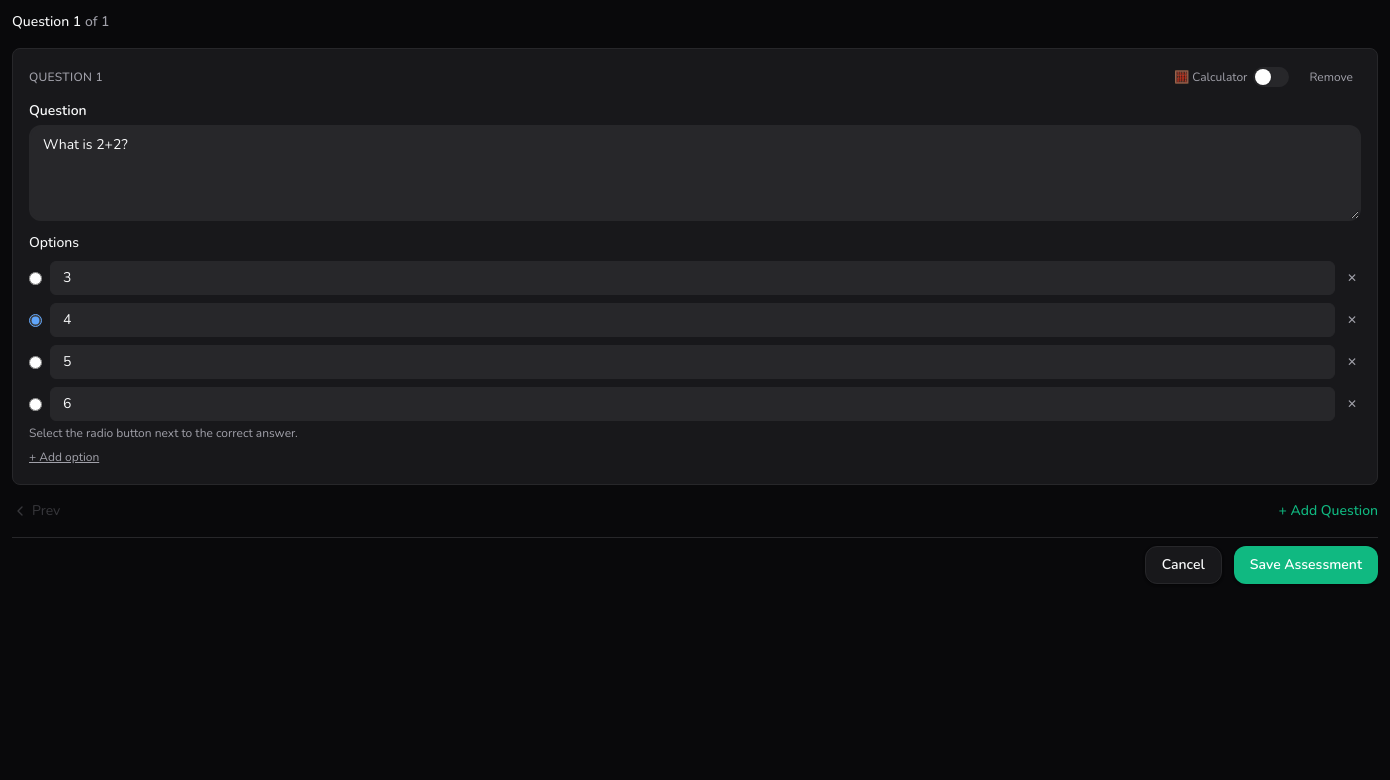
Test: AssessmentForm › adds a new question when Add Question is clicked
Click the button "+ Add Question" at (1328, 511), box [1278,501,1378,521]
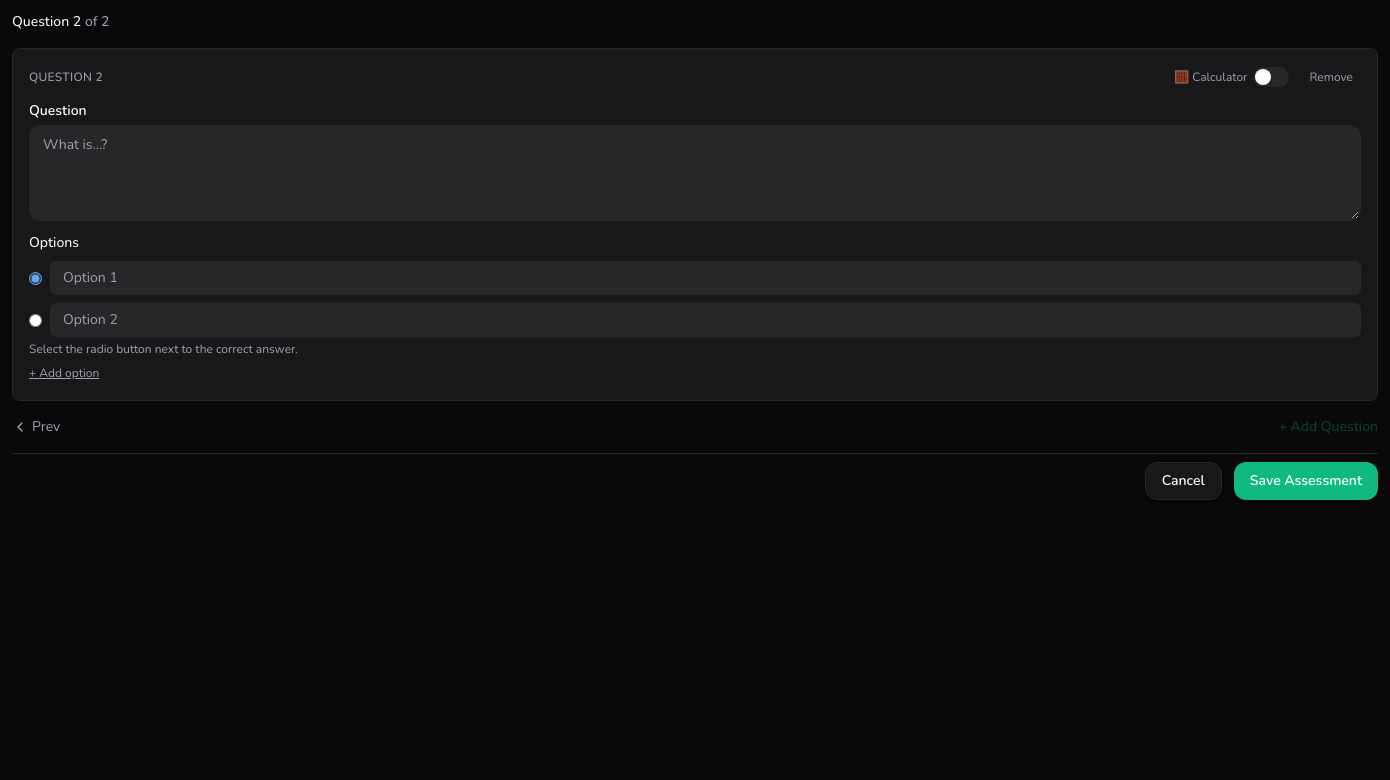
Check: the text "of 2" is shown, box [85,12,110,31]
